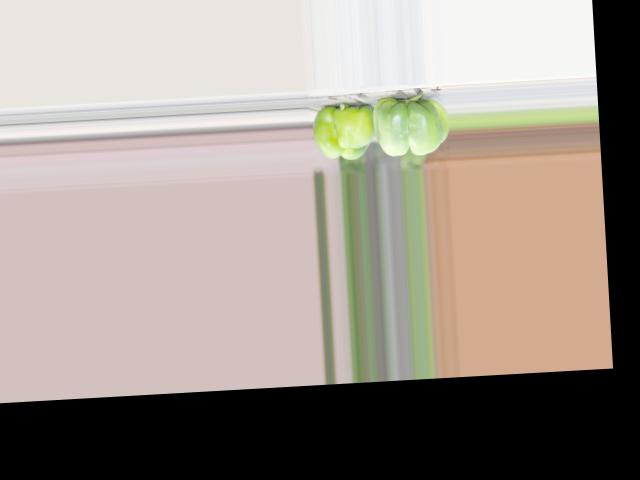bell_pepper: (309, 98, 377, 164)
